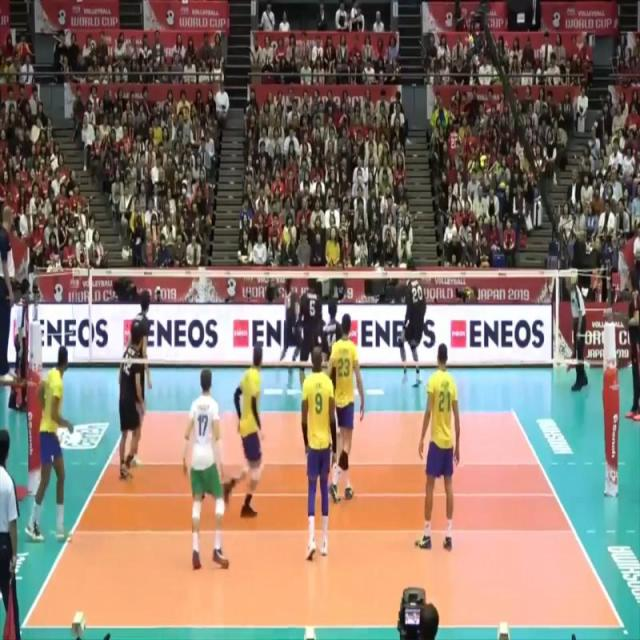volleyball: (282, 227, 292, 247)
